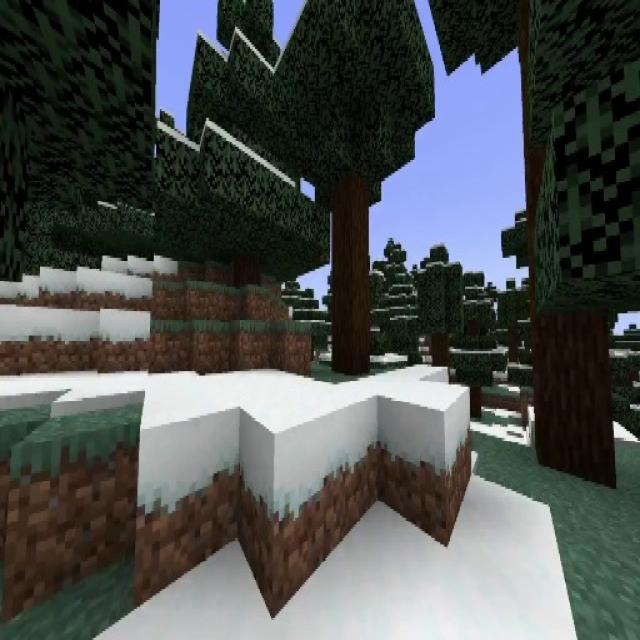spruce: (277, 0, 435, 364), (175, 0, 314, 286), (415, 243, 462, 410), (450, 287, 502, 418), (498, 276, 526, 371)
spruce_log: (534, 317, 610, 481), (331, 184, 371, 372), (236, 252, 258, 285), (432, 334, 448, 367), (468, 386, 482, 421), (508, 330, 518, 363)
